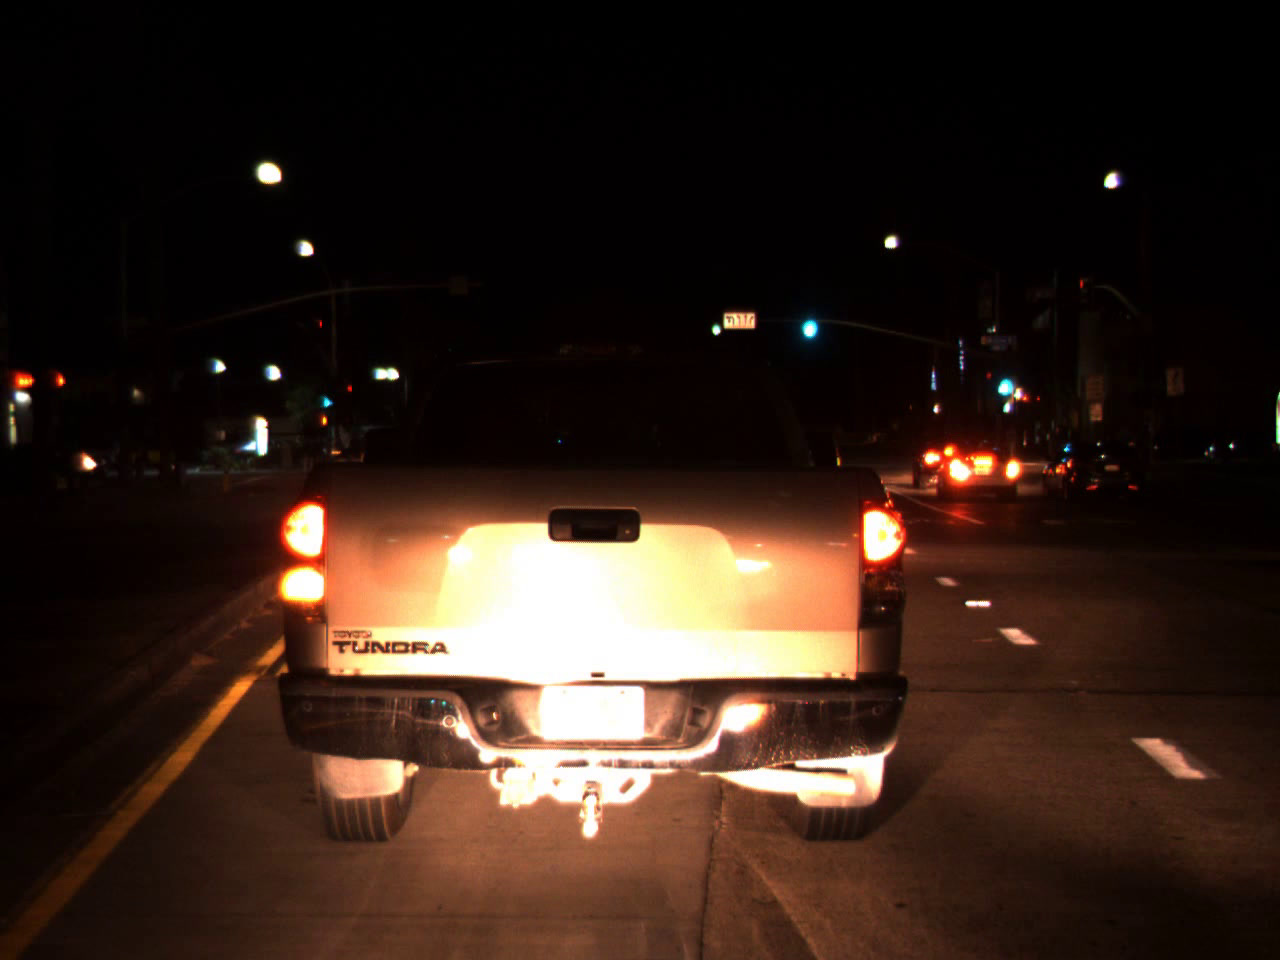go: (990, 357, 1017, 402), (796, 297, 821, 345), (708, 313, 722, 337), (321, 388, 334, 409)
